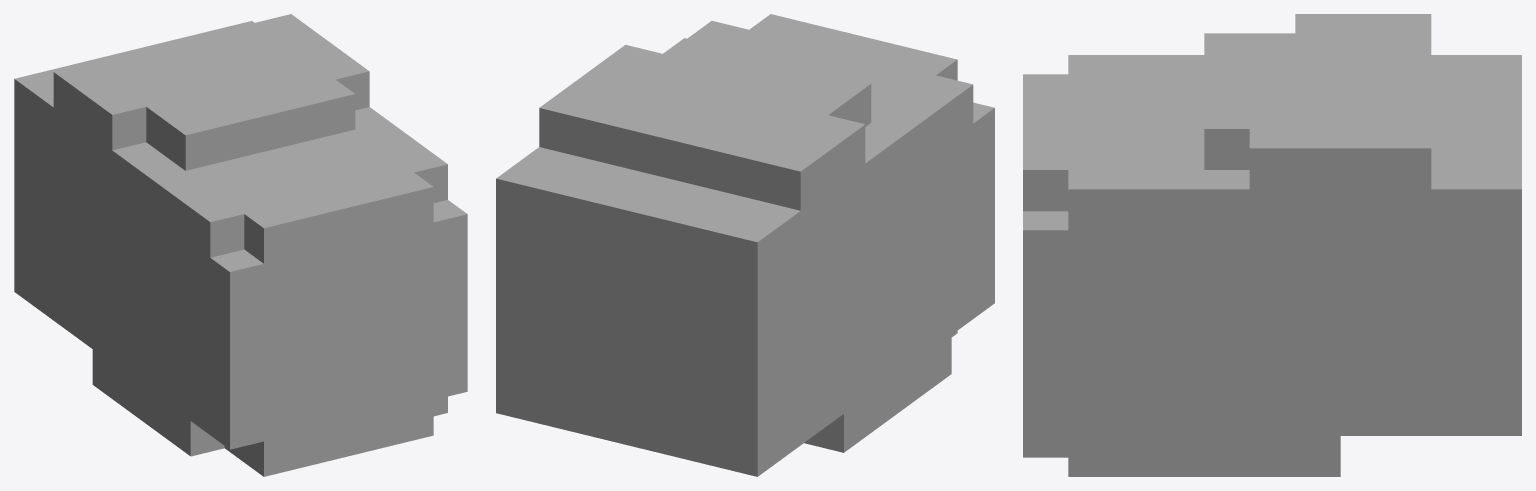
Rendered from gorilla-10-R_Leg.obj.
The picture shows the model from 3 angles, left to right: view 1: azimuth 30°, elevation 25°; view 2: azimuth 150°, elevation 25°; view 3: azimuth 270°, elevation 25°; orthographic projection. The views are drawn at different scales.
Parts seen in each view (by area): view 1: R_Leg; view 2: R_Leg; view 3: R_Leg.
Part boxes in pixels (x1,y1,x2,y2): R_Leg: (14, 14, 467, 476); R_Leg: (496, 14, 994, 476); R_Leg: (1023, 14, 1521, 476).
Size of the model in its own units: 0.7 by 0.8 by 1.1.
Materials: 1 (1 with a texture image).
